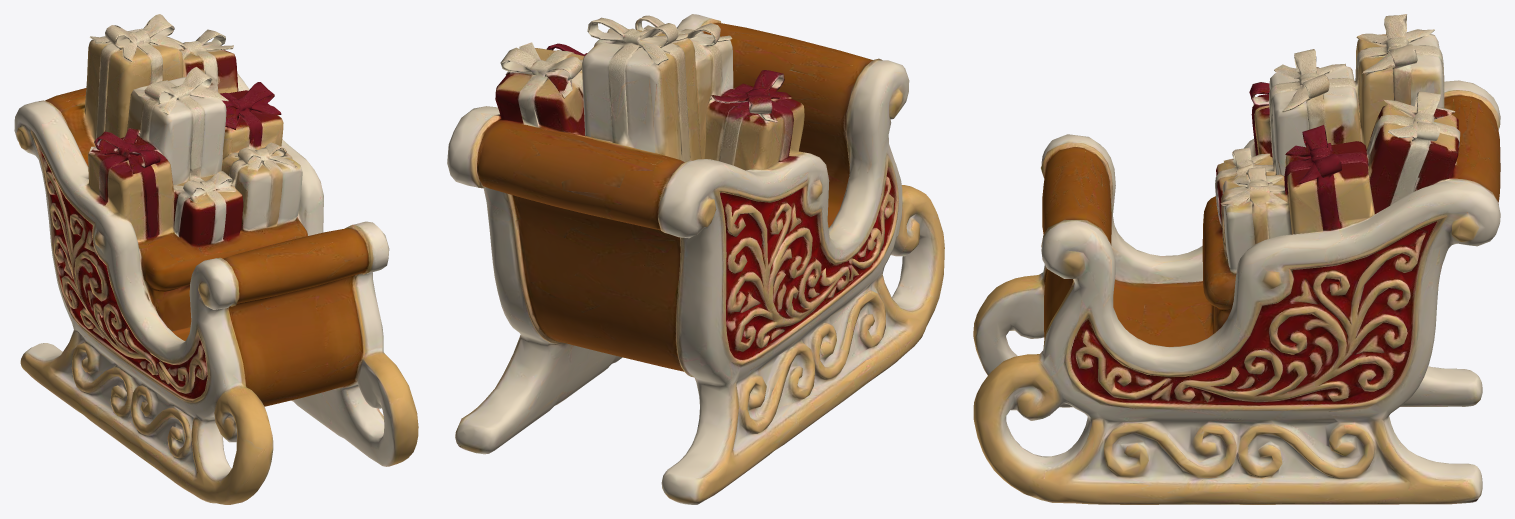
The model's file is sleigh.glb.
3 views of the same model, side by side, from view 1: azimuth 30°, elevation 25°; view 2: azimuth 150°, elevation 25°; view 3: azimuth 270°, elevation 25° (orthographic). The views are drawn at different scales.
Bounding box in the file's own units: 1.13 × 1.74 × 2.
1 material, 1 textured.
